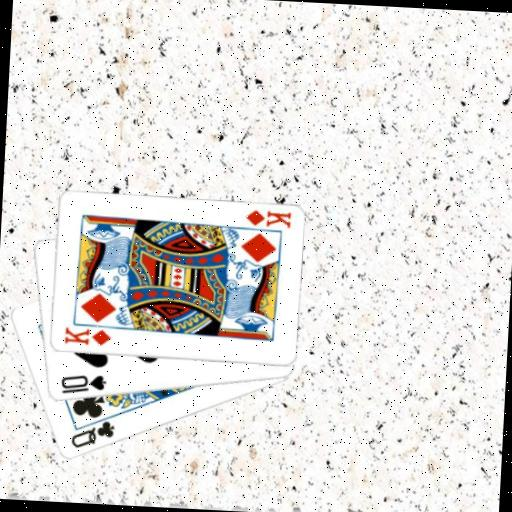10S: (56, 370, 108, 398)
KD: (61, 324, 113, 348), (242, 206, 293, 230)
QC: (68, 416, 117, 452)
